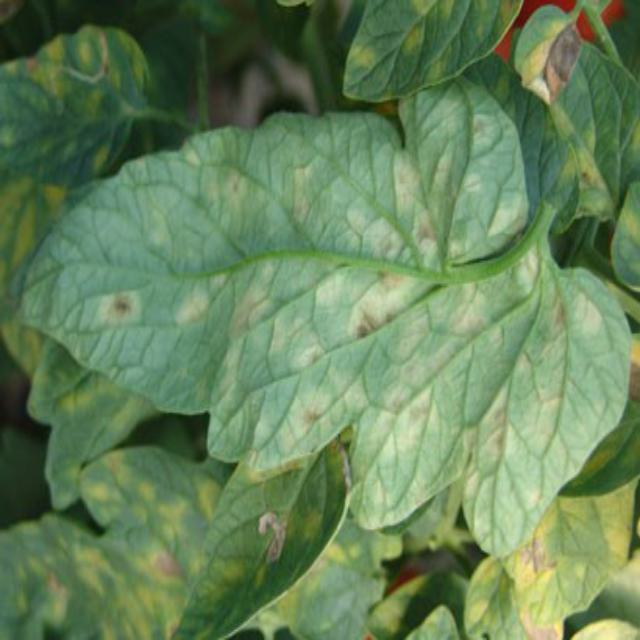Leaf_Mold: (3, 450, 225, 640), (503, 475, 640, 640), (348, 142, 484, 271), (456, 366, 584, 475), (5, 26, 151, 115), (266, 530, 360, 625), (1, 172, 68, 276), (517, 16, 586, 108), (545, 107, 611, 196), (345, 268, 417, 336), (274, 384, 333, 454), (226, 260, 273, 342), (544, 282, 604, 338), (464, 548, 500, 640), (398, 1, 456, 57), (166, 272, 224, 327), (1, 319, 41, 384), (484, 1, 529, 50), (287, 157, 319, 224), (205, 162, 249, 208), (95, 290, 141, 328), (52, 381, 92, 411), (345, 44, 376, 76)
